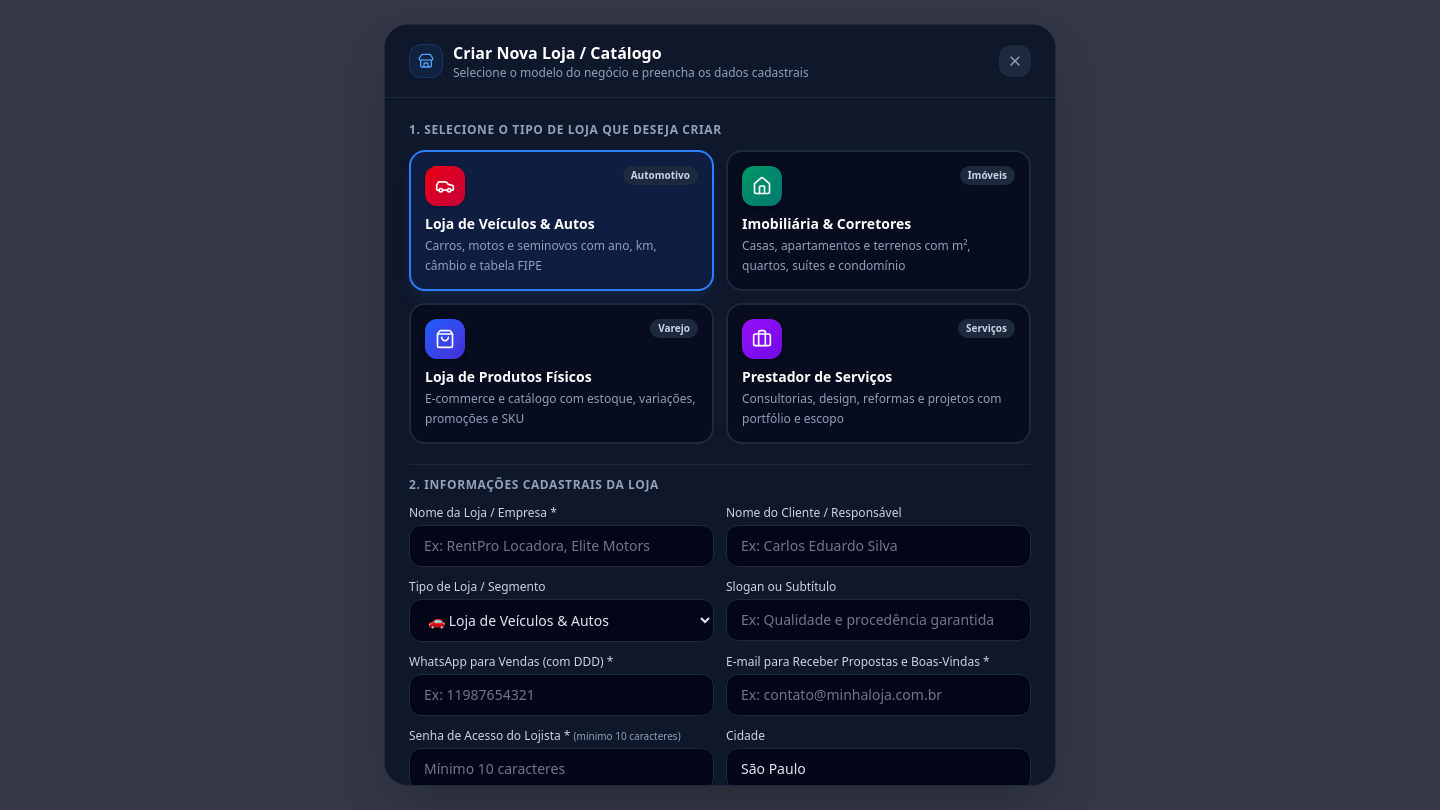
Scenario: StoreCreatorModal - Tratamento de Erros e Usabilidade › Componente StoreCreatorModal - Exibição, Scroll e Foco de Erro › mapeia erro 429 para "Muitas tentativas. Aguarde alguns minutos e tente de novo."
Step 1. Type "Auto Peças Modelo" into the field with placeholder "Ex: RentPro Locadora, Elite Motors" → (562, 546), box left=409, top=525, right=714, bottom=567
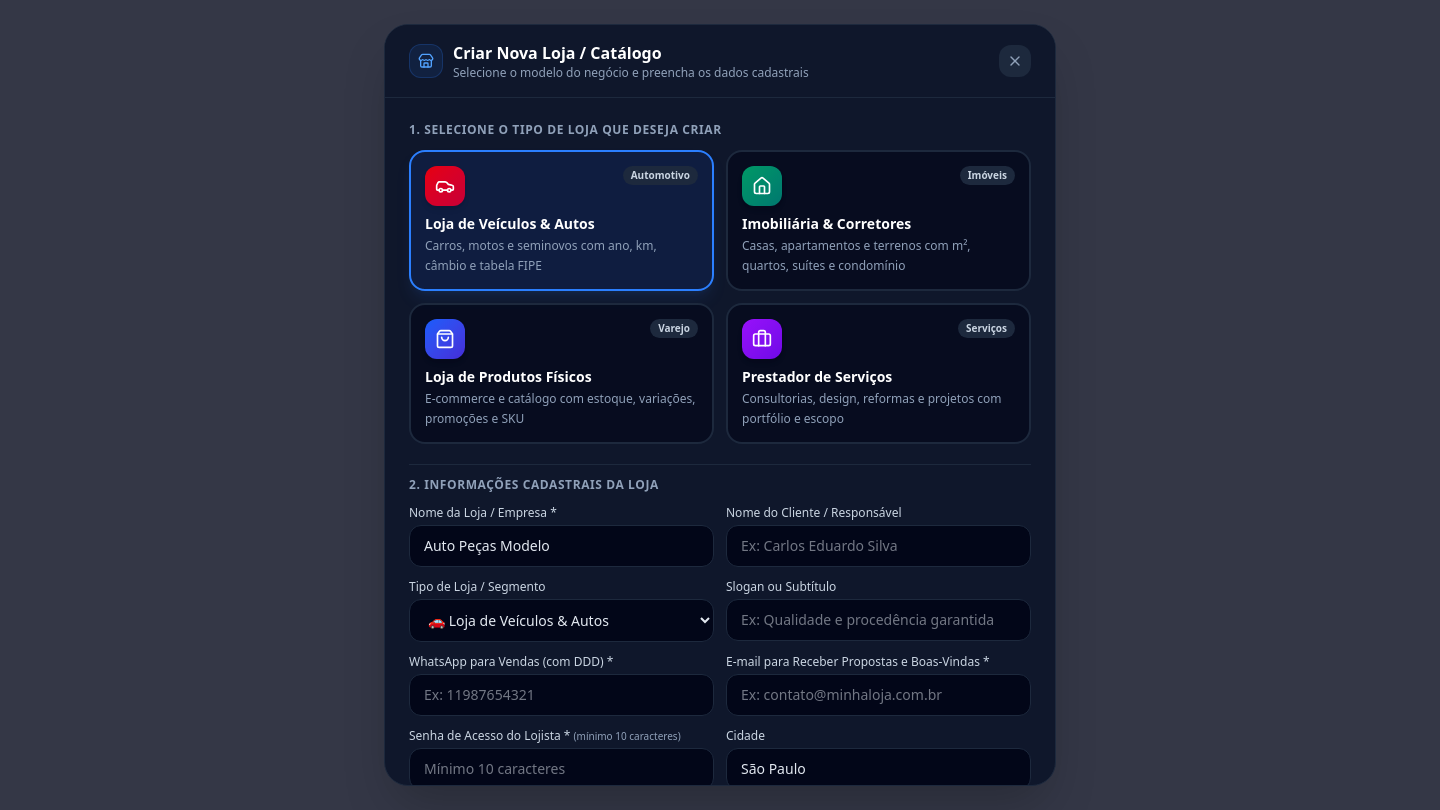
Step 2. Type "11988887777" into the field with placeholder "Ex: 11987654321" → (562, 695), box left=409, top=674, right=714, bottom=716
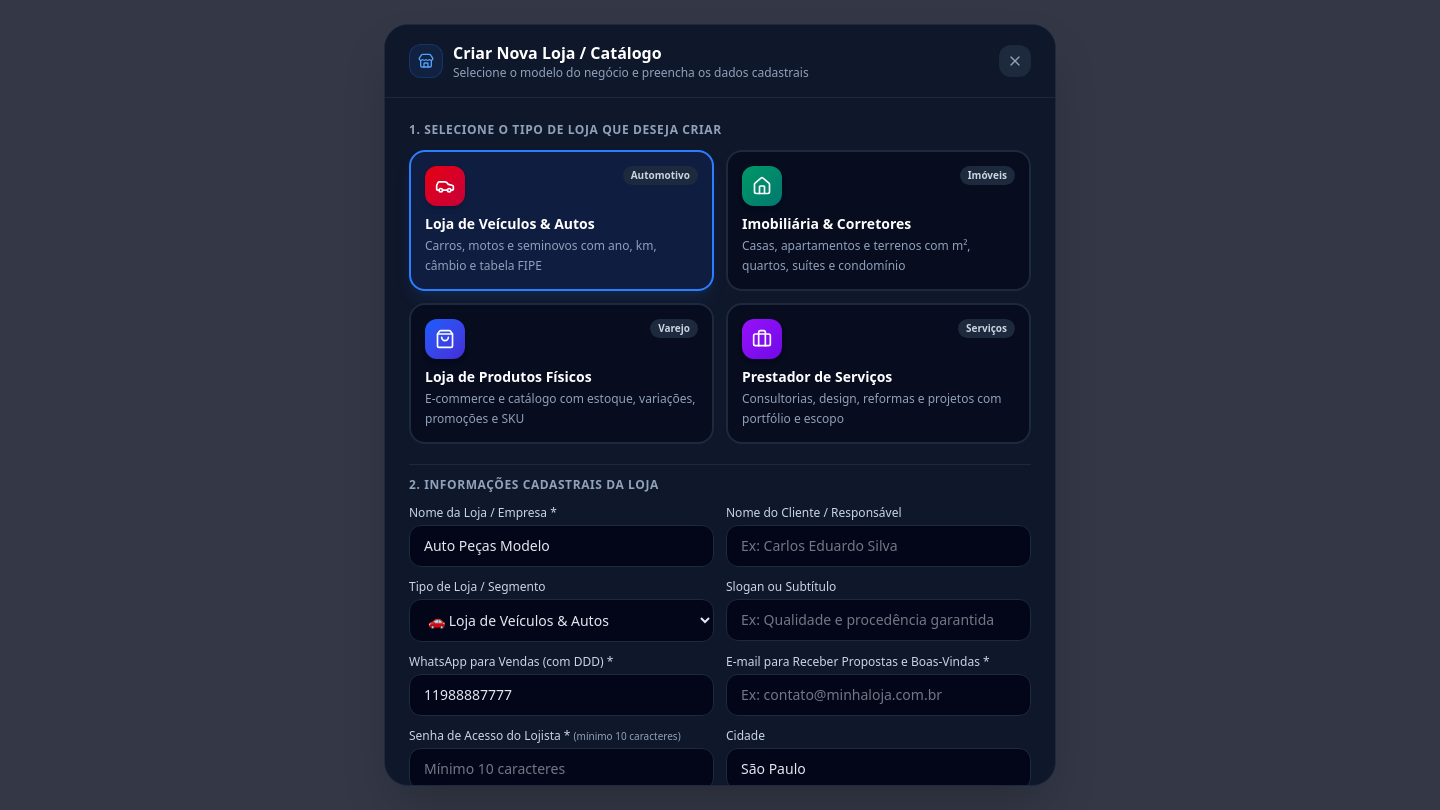
Step 3. Type "contato@modelo.com" into the field with placeholder "Ex: contato@minhaloja.com.br" → (878, 695), box left=726, top=674, right=1031, bottom=716
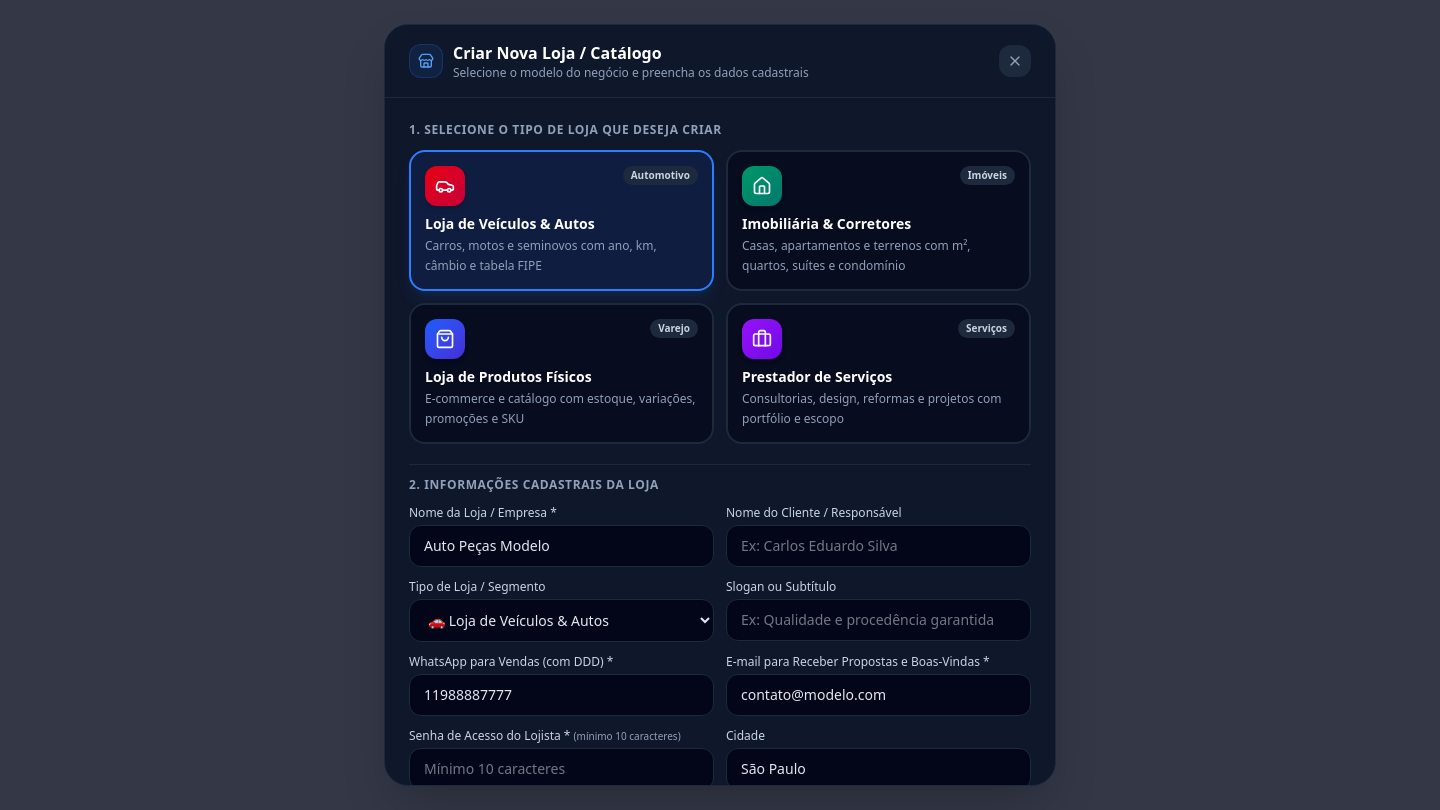
Step 4. Type "SenhaSegura123!" into the password field with placeholder "Mínimo 10 caracteres" → (562, 769), box left=409, top=748, right=714, bottom=790
(page scrolled)
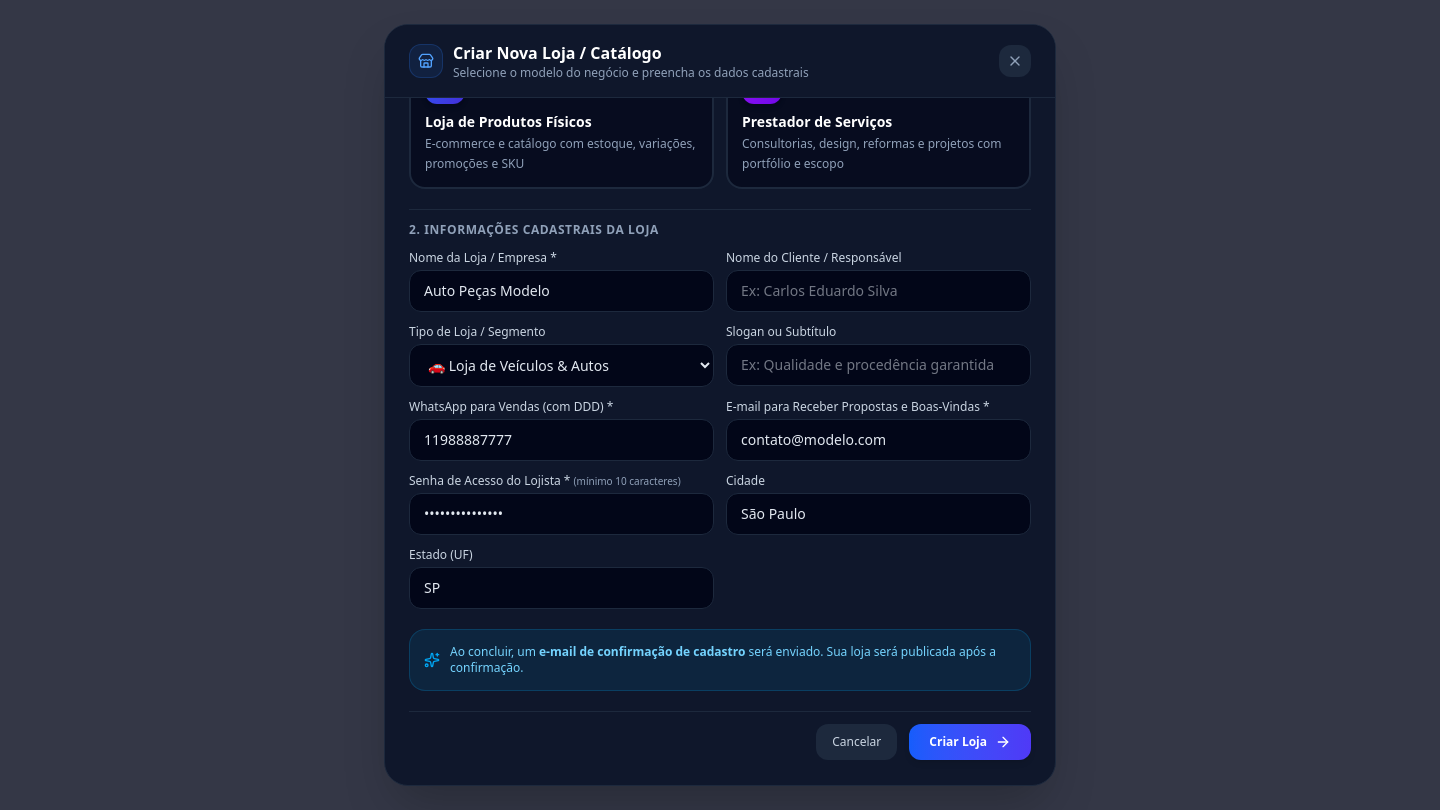
Step 5. Click the button "Criar Loja" → (970, 742), box left=909, top=724, right=1031, bottom=760
(page scrolled)
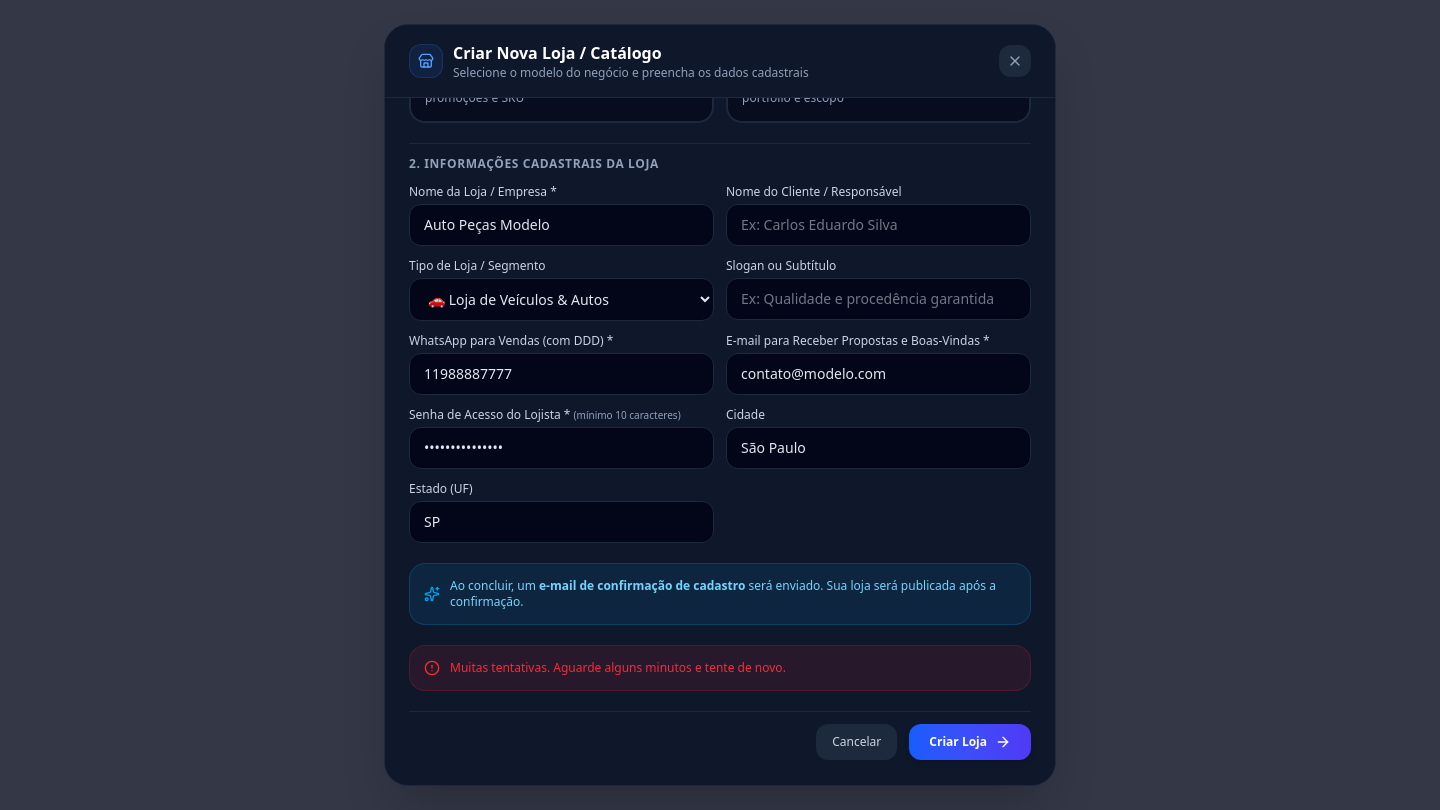
Result: the message with test id "bottom-error-message" reads "Muitas tentativas. Aguarde alguns minutos e tente de novo." at left=450, top=659, right=786, bottom=676
